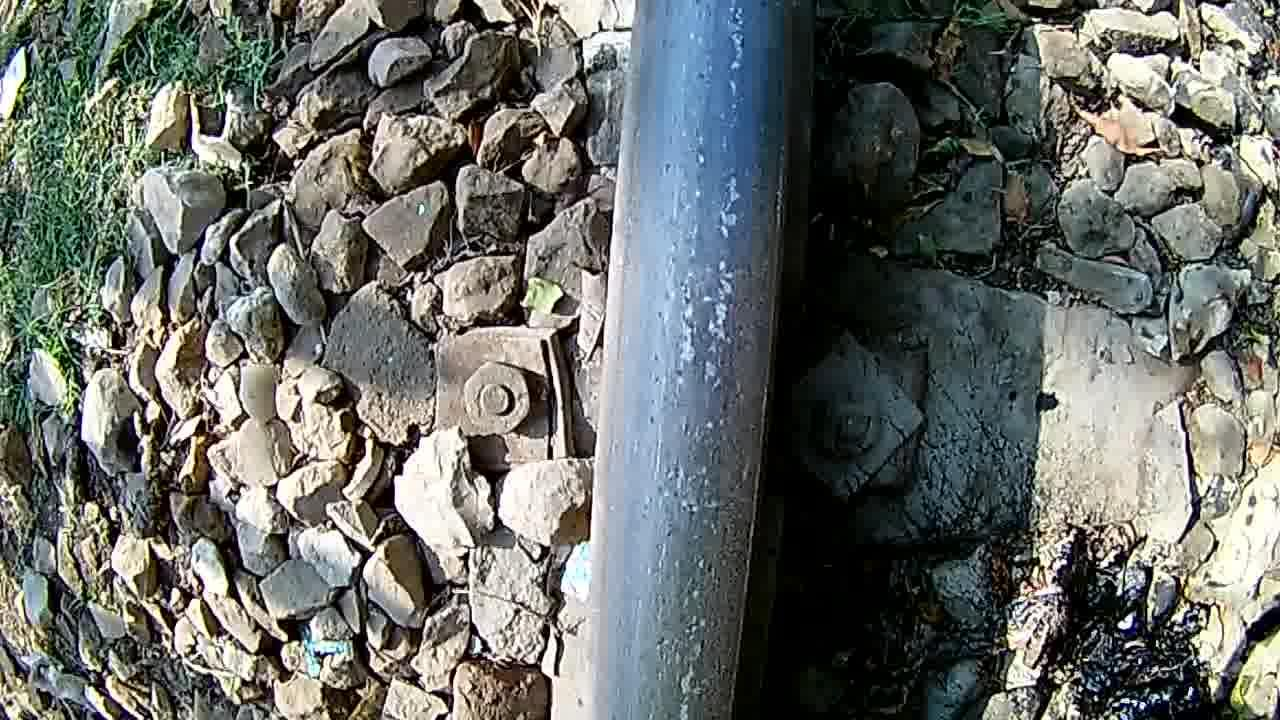clip_missing: (584, 4, 794, 718)
